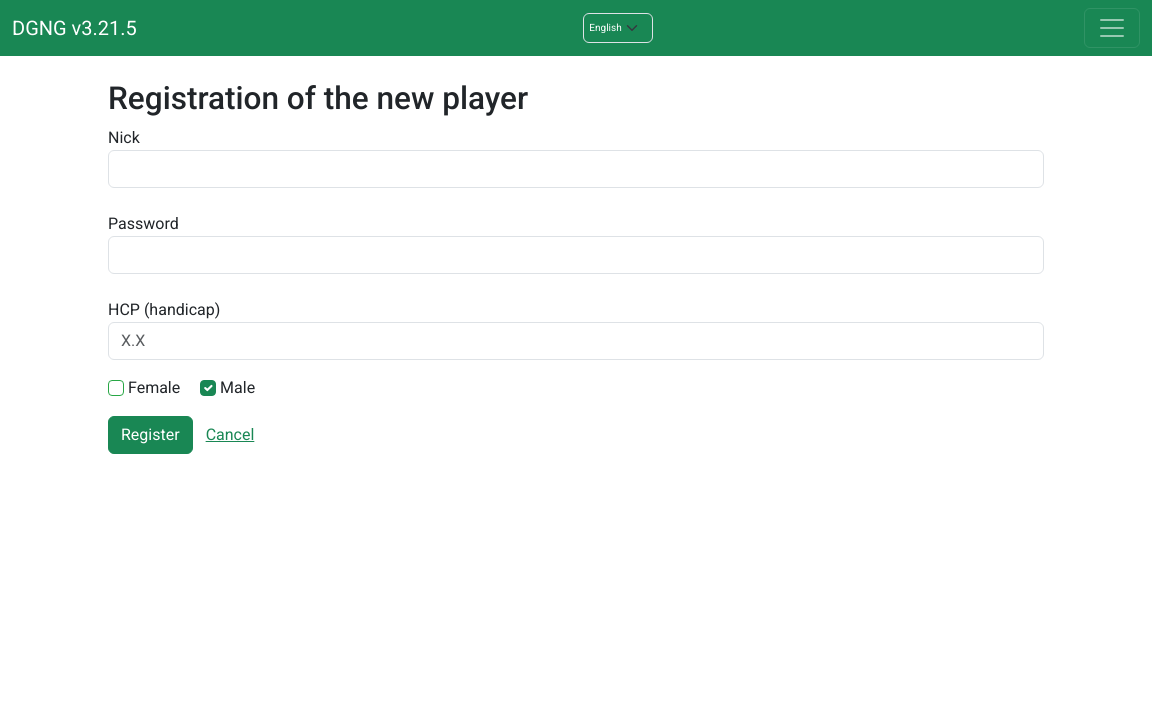
Test: Register Test › Form submission › tries to register without password
In the field named "nick": (576, 169) top-left (108, 150), bottom-right (1044, 188), type "golfer"
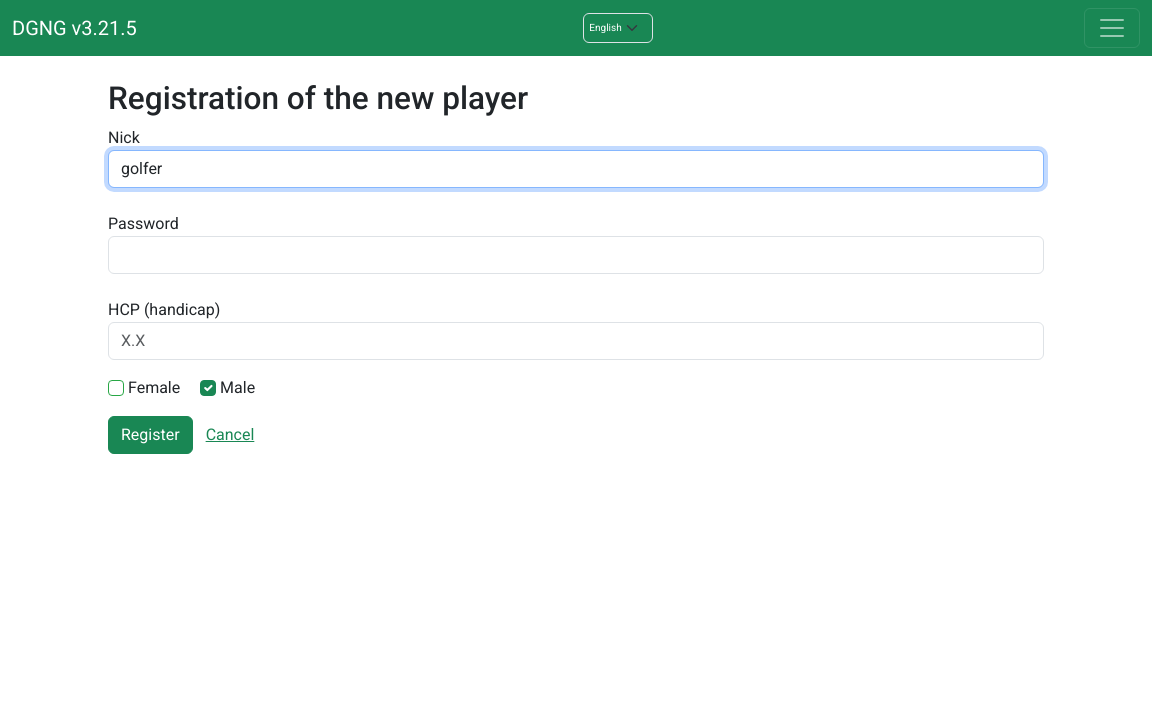
Submit the form, box top-left (108, 126), bottom-right (1044, 454)
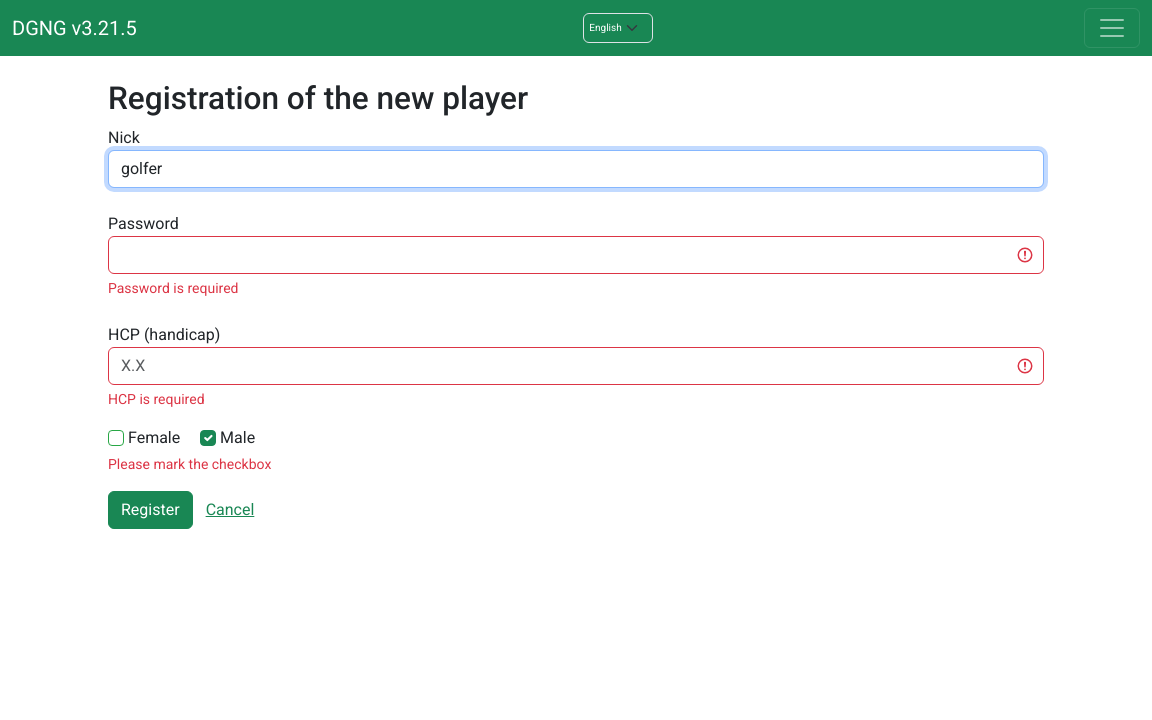
Now the text "Password is required" is shown, box top-left (108, 280), bottom-right (238, 296)
